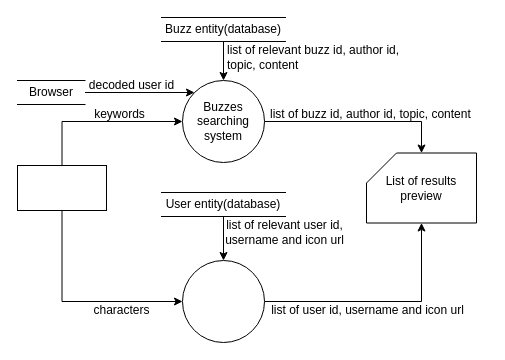
Image size: 505x360. Some labels were removed from this diagram. Each missing label, with the centre of its shape:
"User inputs" goes at (x=61, y=187).
"Users searching system" goes at (x=223, y=301).
